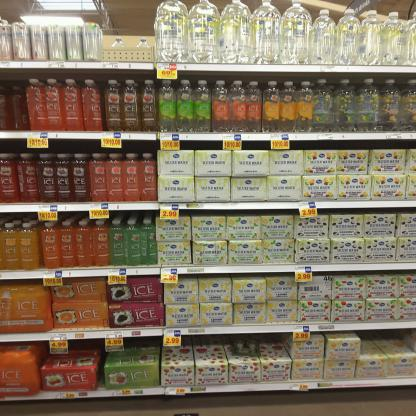Void: (185, 337, 286, 347), (364, 333, 403, 346)
